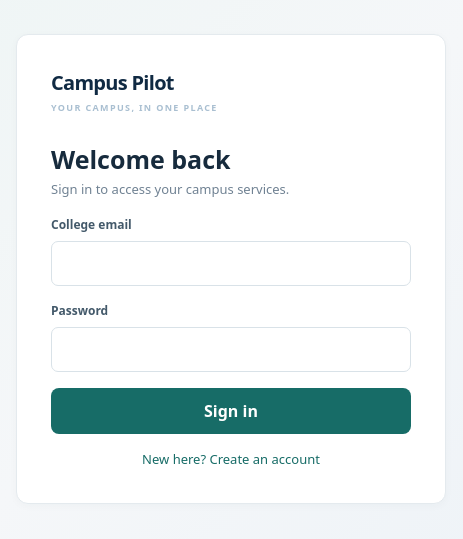
Login › shows backend authentication errors to the user
In the field labelled "College email": (231, 263) [51, 240, 411, 286], type "student@example.edu"
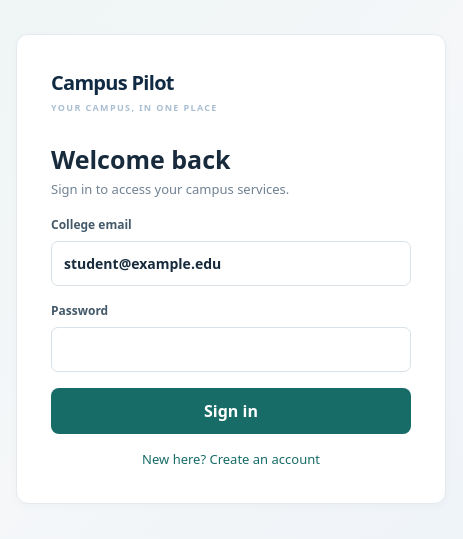
In the password field labelled "Password": (231, 349) [51, 326, 411, 372], type "wrong-password"
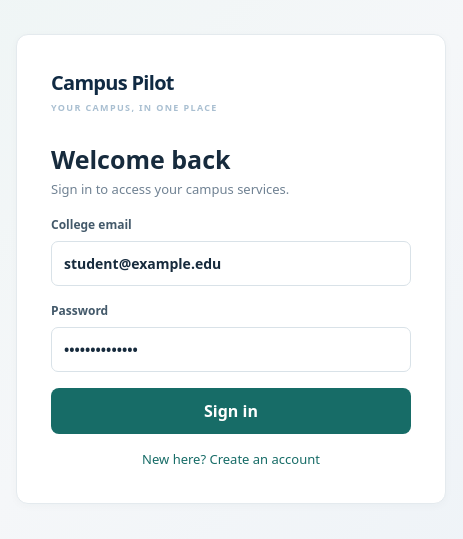
Click the button "Sign in": (231, 410) [51, 388, 411, 434]
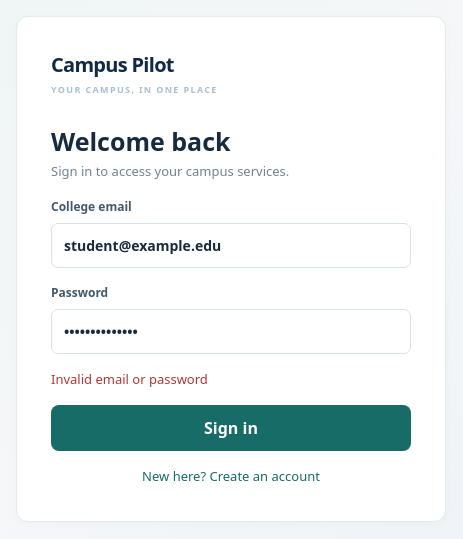
Expected: the message reads "Invalid email or password", [51, 370, 208, 388]
